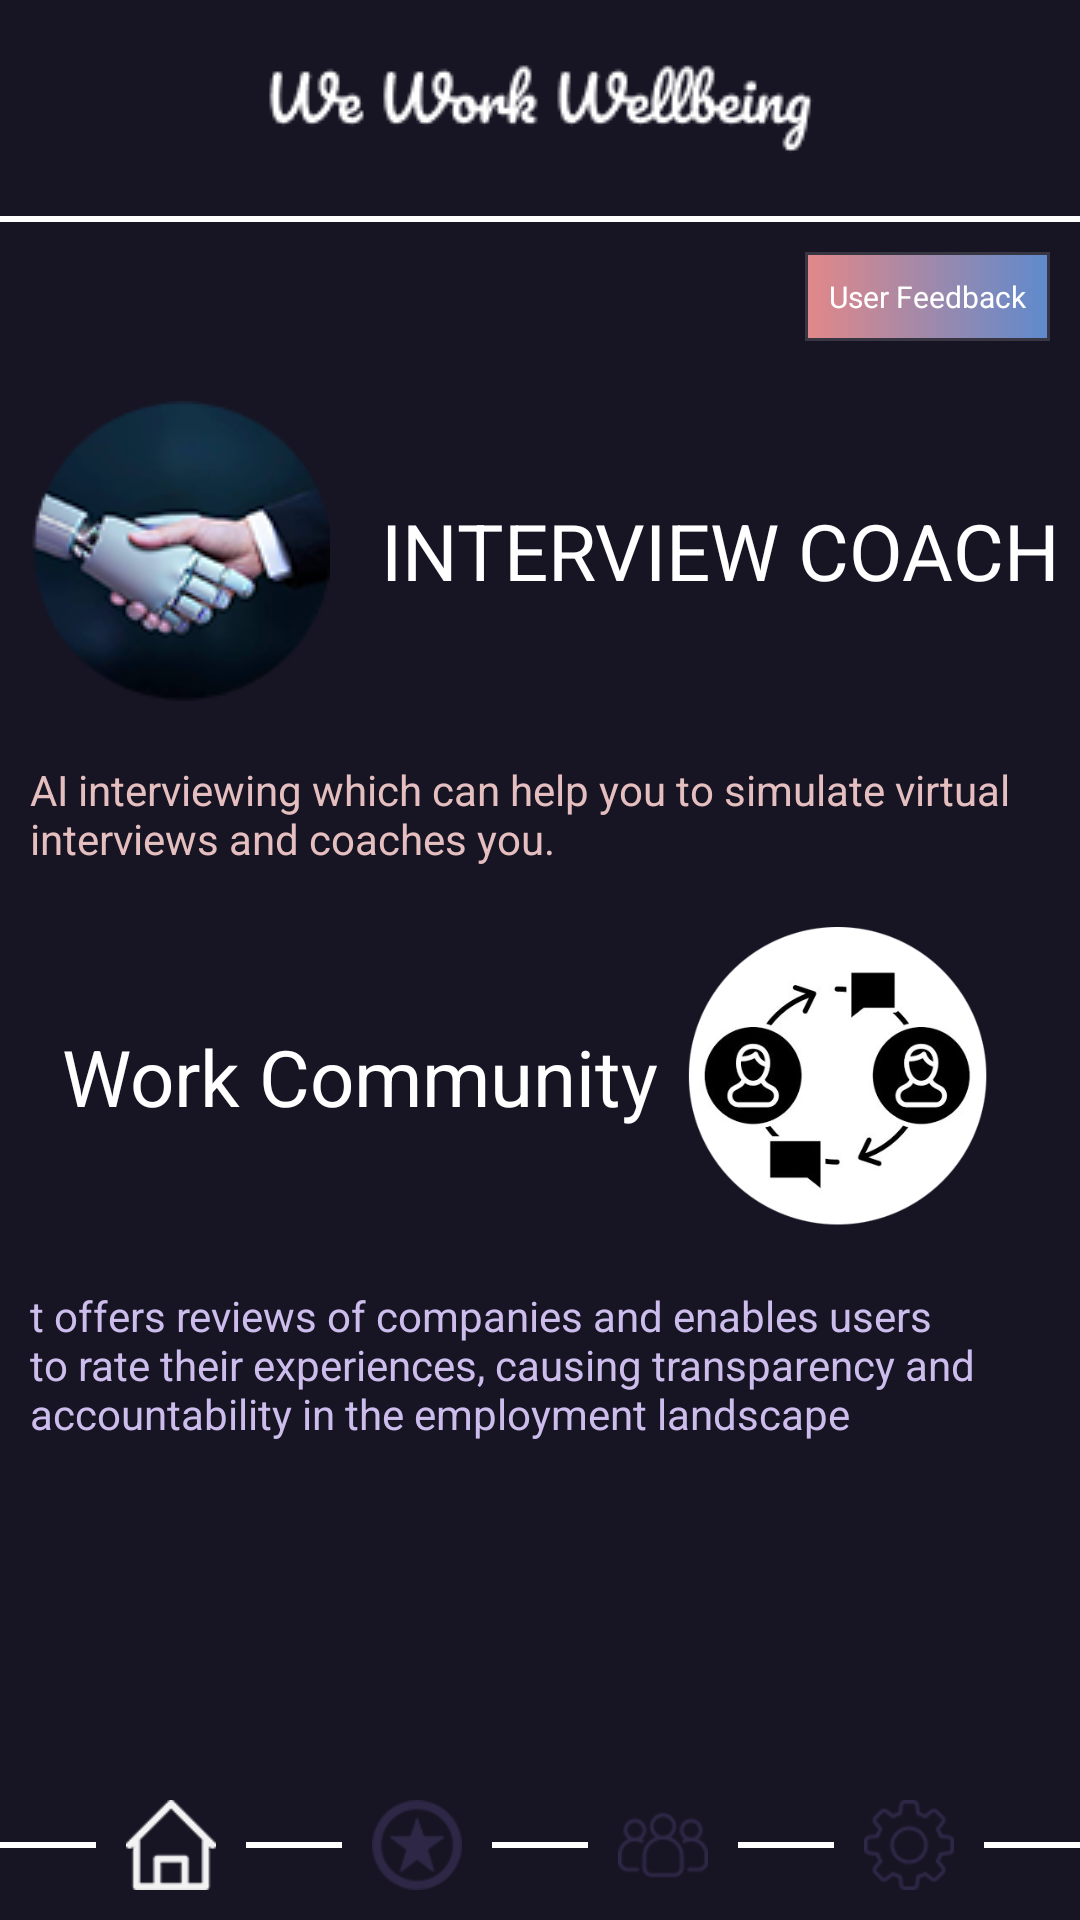

Point at icon controls on the screen. Image size 1080w x 1920h, points as point (x, y).
home: point (171, 1845)
settings: point (909, 1845)
star: point (417, 1845)
team: point (663, 1845)
